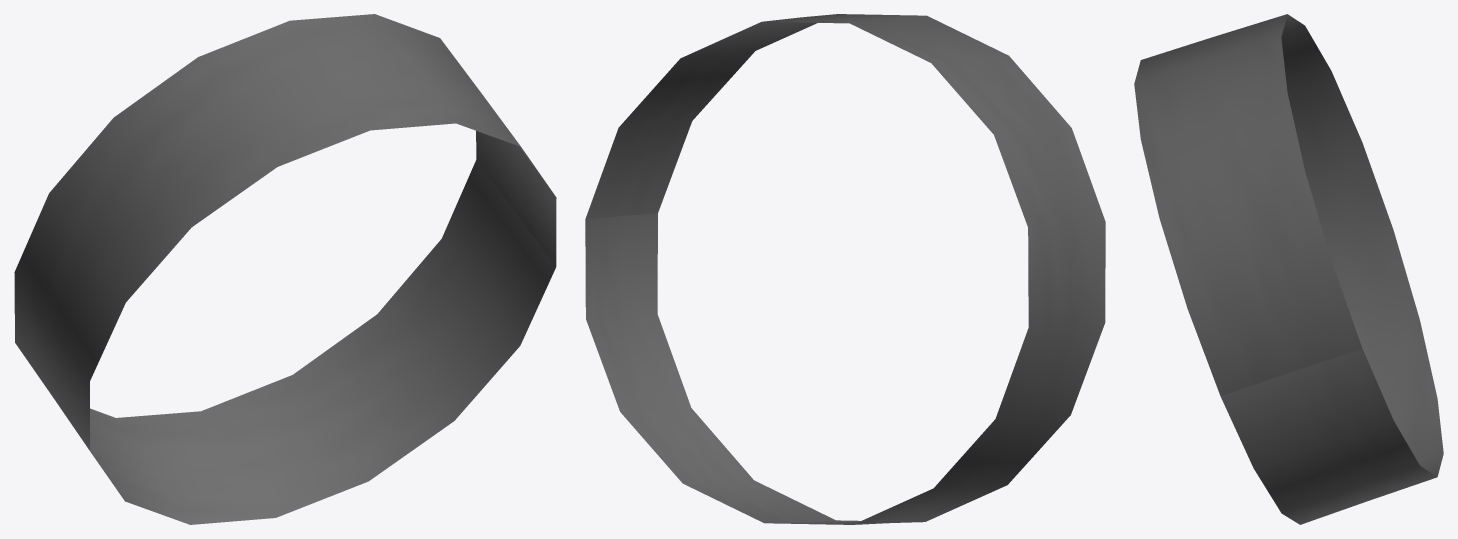
The model's file is mastarmcurve_4x1_c1.obj.
3 views of the same model, side by side, from view 1: azimuth 30°, elevation 25°; view 2: azimuth 150°, elevation 25°; view 3: azimuth 270°, elevation 25° (orthographic). The views are drawn at different scales.
Parts seen in each view (by area): view 1: mastarm_4x1_c1; view 2: mastarm_4x1_c1; view 3: mastarm_4x1_c1.
Boxes of the visible parts, left/top/right/bottom form: mastarm_4x1_c1: left=14, top=14, right=556, bottom=524; mastarm_4x1_c1: left=585, top=14, right=1105, bottom=524; mastarm_4x1_c1: left=1134, top=14, right=1443, bottom=524.
Size of the model in its own units: 0.5938 by 0.6178 by 0.3739.
